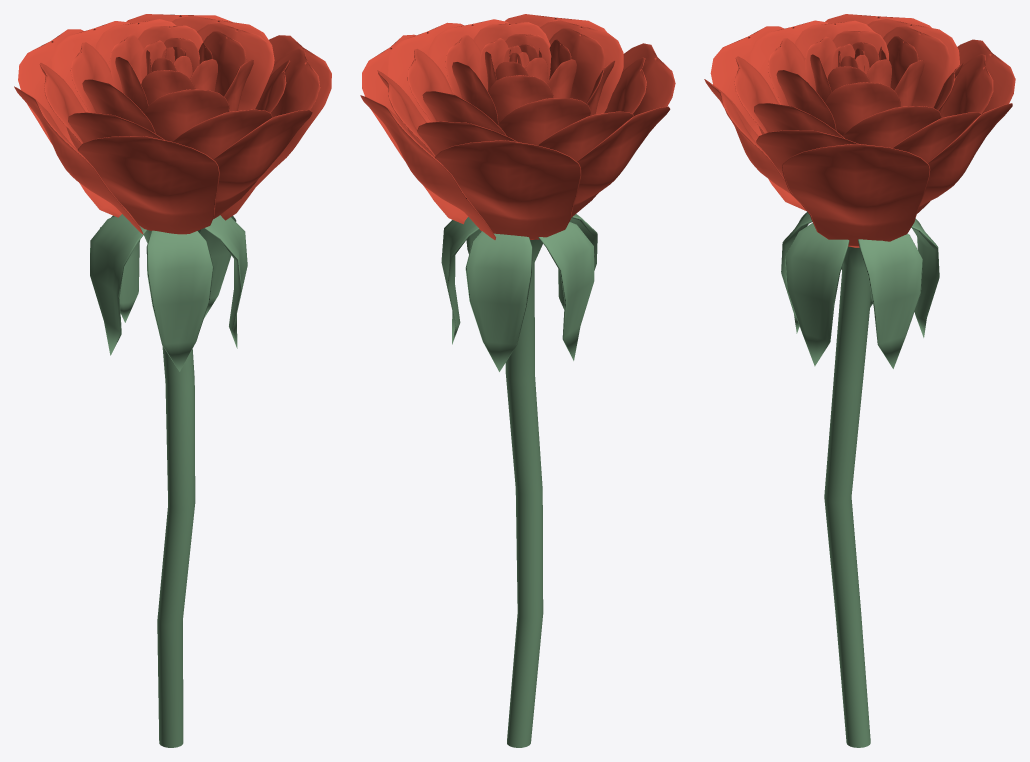
File: Rose_Low.fbx
3 renders of one model, left to right at view 1: azimuth 30°, elevation 25°; view 2: azimuth 150°, elevation 25°; view 3: azimuth 270°, elevation 25°, orthographic.
Parts seen in each view (by area): view 1: RoseFlower_low, Stem_Low, Petal2_Low, Petal1_Low, Petal3_Low, Petal4_Low, Petal5_Low; view 2: RoseFlower_low, Stem_Low, Petal5_Low, Petal1_Low, Petal4_Low, Petal2_Low; view 3: RoseFlower_low, Stem_Low, Petal3_Low, Petal4_Low, Petal5_Low, Petal2_Low.
Boxes of the visible parts, left/top/right/bottom form: RoseFlower_low: left=14, top=14, right=331, bottom=234; Stem_Low: left=144, top=229, right=200, bottom=747; Petal2_Low: left=146, top=230, right=213, bottom=371; Petal1_Low: left=90, top=214, right=147, bottom=355; Petal3_Low: left=204, top=215, right=247, bottom=348; Petal4_Low: left=200, top=216, right=236, bottom=318; Petal5_Low: left=100, top=215, right=139, bottom=322; RoseFlower_low: left=360, top=14, right=675, bottom=239; Stem_Low: left=505, top=239, right=543, bottom=747; Petal5_Low: left=465, top=231, right=532, bottom=371; Petal1_Low: left=538, top=222, right=594, bottom=360; Petal4_Low: left=441, top=217, right=479, bottom=344; Petal2_Low: left=558, top=214, right=597, bottom=309; RoseFlower_low: left=704, top=14, right=1015, bottom=247; Stem_Low: left=824, top=246, right=871, bottom=747; Petal3_Low: left=785, top=223, right=849, bottom=366; Petal4_Low: left=858, top=233, right=922, bottom=368; Petal5_Low: left=911, top=218, right=939, bottom=337; Petal2_Low: left=781, top=212, right=812, bottom=333.
Bounding box in the file's own units: 3.27 × 8.03 × 3.27.
